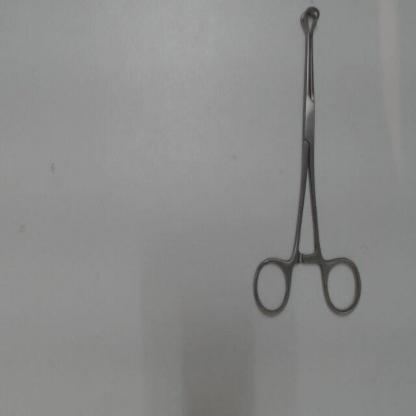Babcock Tissue Forceps: (251, 4, 365, 322)
